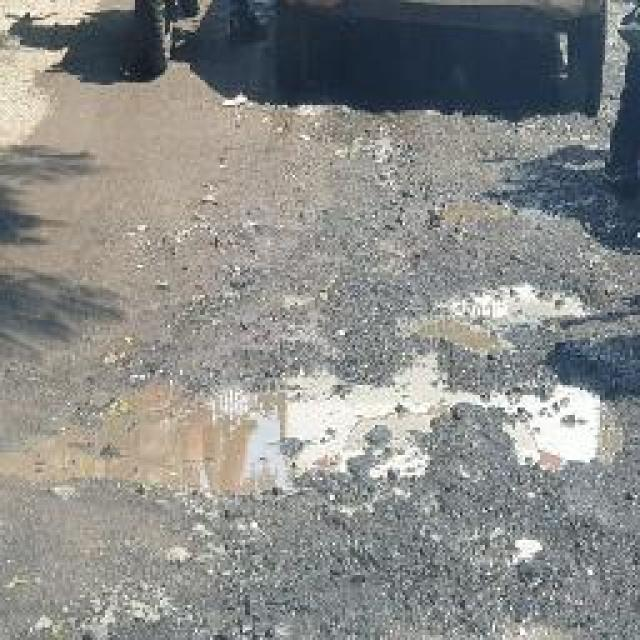stagnation: (0, 364, 454, 515), (385, 270, 606, 351)
